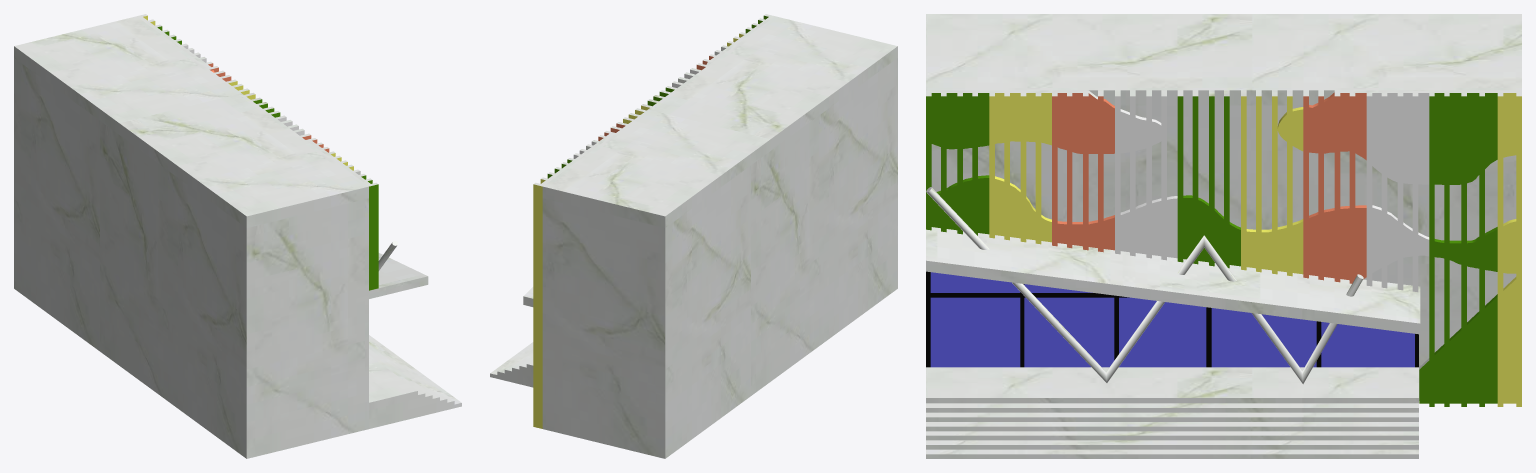
The model's file is Toamythuat.obj.
3 renders of one model, left to right at view 1: azimuth 30°, elevation 25°; view 2: azimuth 150°, elevation 25°; view 3: azimuth 270°, elevation 25°, orthographic. The views are drawn at different scales.
Visible parts, largest first — view 1: Mesh1 Group2 Group1 T_a_m__thu_t1 Model, Mesh2 Group4 Group3 Group1 T_a_m__thu_t1 Model, Mesh4 Group6 Group1 T_a_m__thu_t1 Model, Mesh3 Group5 Group1 T_a_m__thu_t1 Model; view 2: Mesh1 Group2 Group1 T_a_m__thu_t1 Model, Mesh4 Group6 Group1 T_a_m__thu_t1 Model, Mesh2 Group4 Group3 Group1 T_a_m__thu_t1 Model; view 3: Mesh1 Group2 Group1 T_a_m__thu_t1 Model, Mesh4 Group6 Group1 T_a_m__thu_t1 Model, Mesh2 Group4 Group3 Group1 T_a_m__thu_t1 Model, Mesh3 Group5 Group1 T_a_m__thu_t1 Model, Mesh5 Group7 Group1 T_a_m__thu_t1 Model.
Part boxes in pixels (x1,y1,x2,y2): Mesh1 Group2 Group1 T_a_m__thu_t1 Model: (14,16,368,458); Mesh2 Group4 Group3 Group1 T_a_m__thu_t1 Model: (369,335,461,428); Mesh4 Group6 Group1 T_a_m__thu_t1 Model: (137,14,378,290); Mesh3 Group5 Group1 T_a_m__thu_t1 Model: (369,253,428,298); Mesh1 Group2 Group1 T_a_m__thu_t1 Model: (542,16,897,458); Mesh4 Group6 Group1 T_a_m__thu_t1 Model: (533,14,774,428); Mesh2 Group4 Group3 Group1 T_a_m__thu_t1 Model: (490,342,533,387); Mesh1 Group2 Group1 T_a_m__thu_t1 Model: (926,14,1521,400); Mesh4 Group6 Group1 T_a_m__thu_t1 Model: (926,90,1521,406); Mesh2 Group4 Group3 Group1 T_a_m__thu_t1 Model: (926,367,1418,458); Mesh3 Group5 Group1 T_a_m__thu_t1 Model: (926,227,1420,334); Mesh5 Group7 Group1 T_a_m__thu_t1 Model: (926,187,1363,384).
Bounding box in the file's own units: 9270 × 9983 × 17356.
7 materials, 1 textured.
